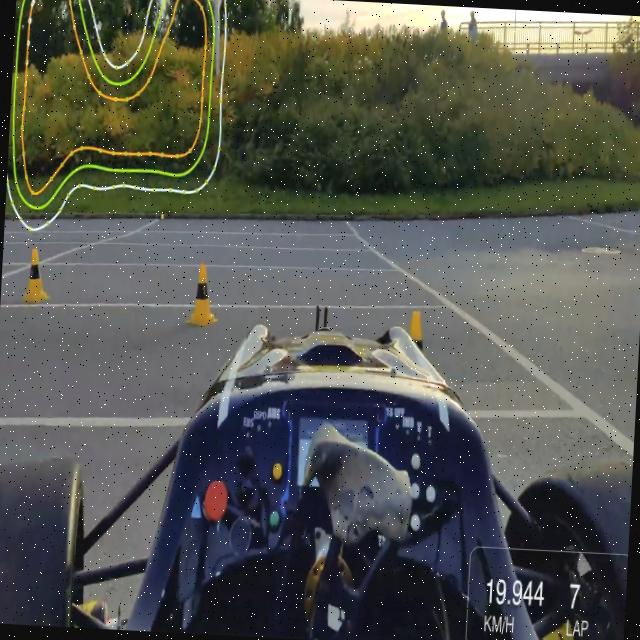yellow_cone: (392, 307, 438, 418), (185, 262, 221, 332), (19, 244, 56, 306)
